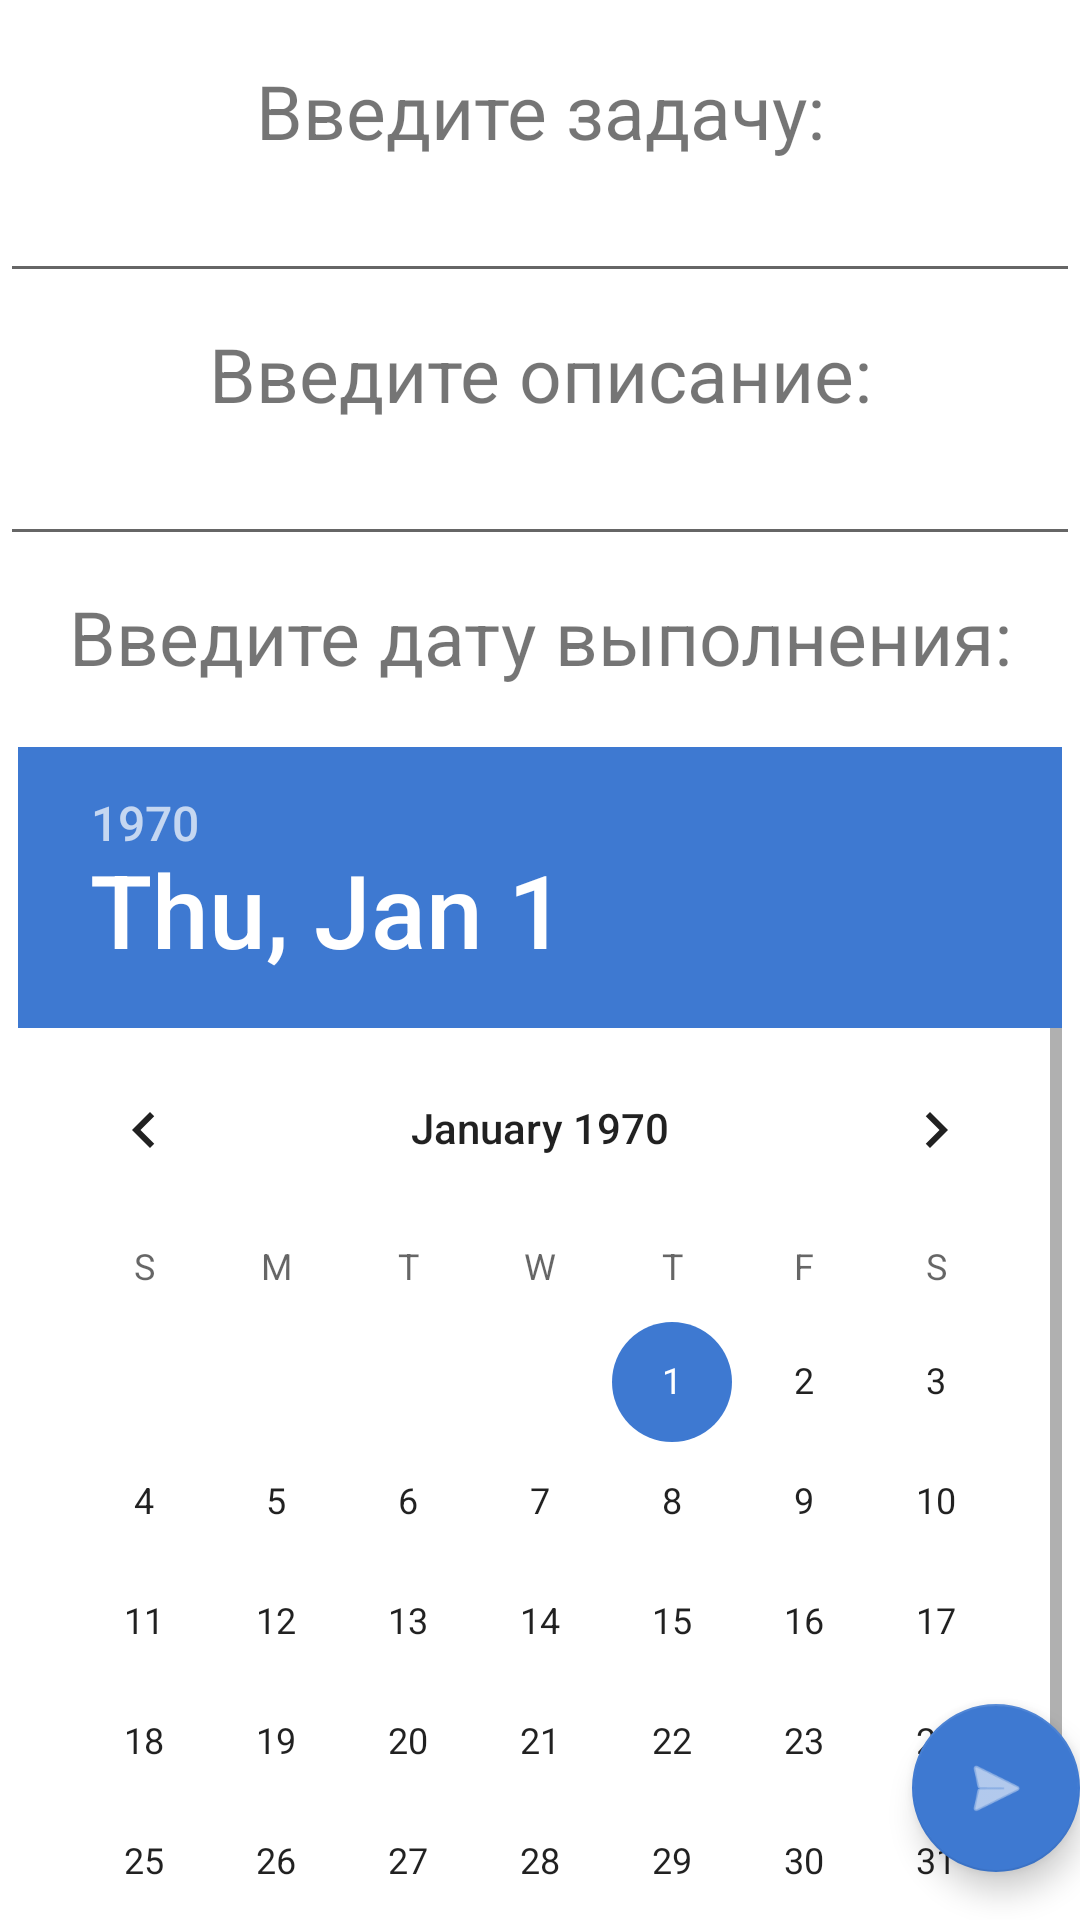

Icon bounding boxes for this 1080x1920 phone screenshot, format (x1, y1, x2, y2):
send: (912, 1704, 1080, 1872)
